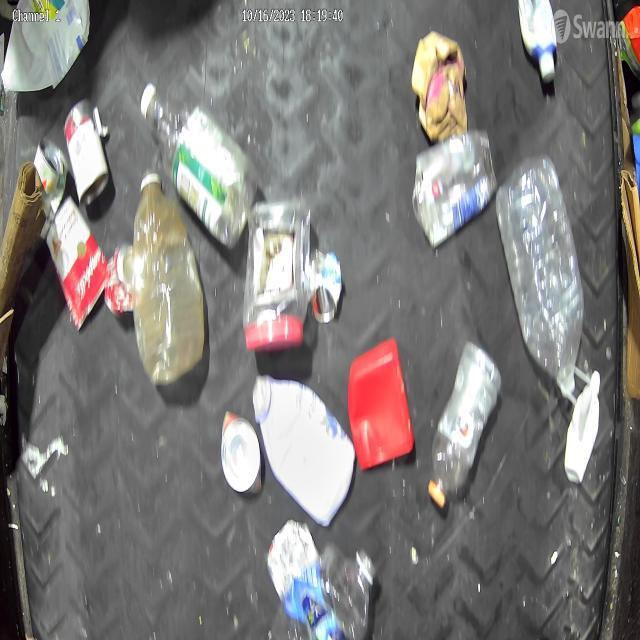can: (411, 130, 497, 246), (63, 98, 110, 206), (220, 409, 262, 497), (104, 242, 140, 317), (34, 134, 66, 207)
milk_jug: (251, 374, 356, 526), (0, 0, 92, 92)
plastic_bottle: (495, 154, 586, 394), (140, 82, 262, 248), (427, 342, 501, 509), (269, 544, 376, 640)
